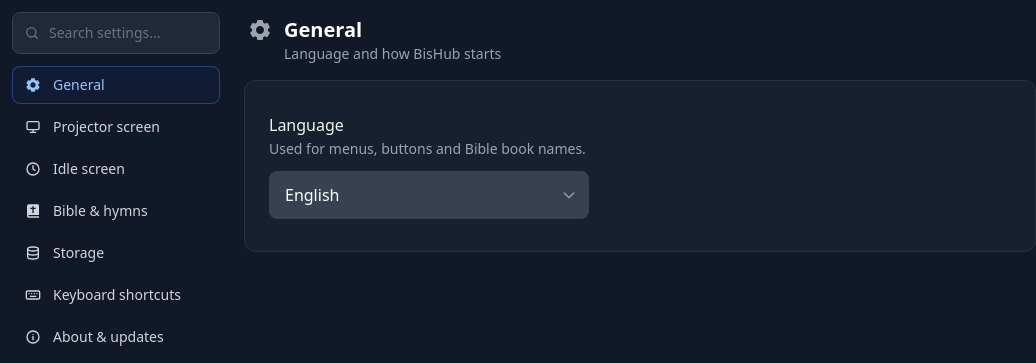
Test: SettingsPage › says so when nothing matches
Type "zzz" into the search field at (116, 33), box [12,12,220,54]
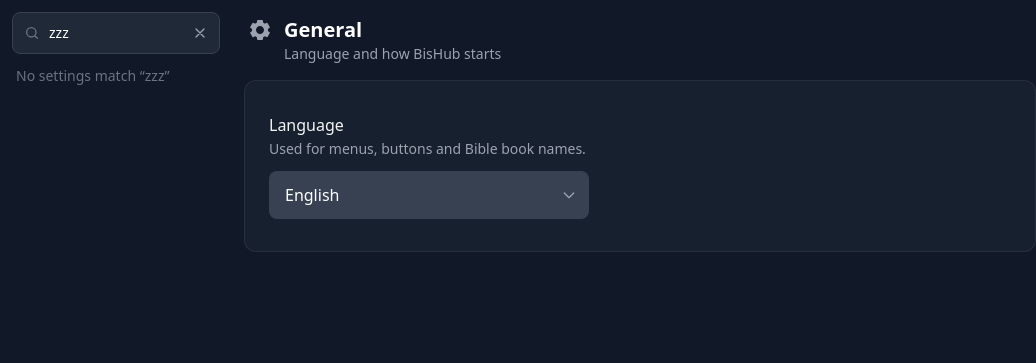
Check: the text "No settings match “zzz”" is shown, box [16,66,170,85]
